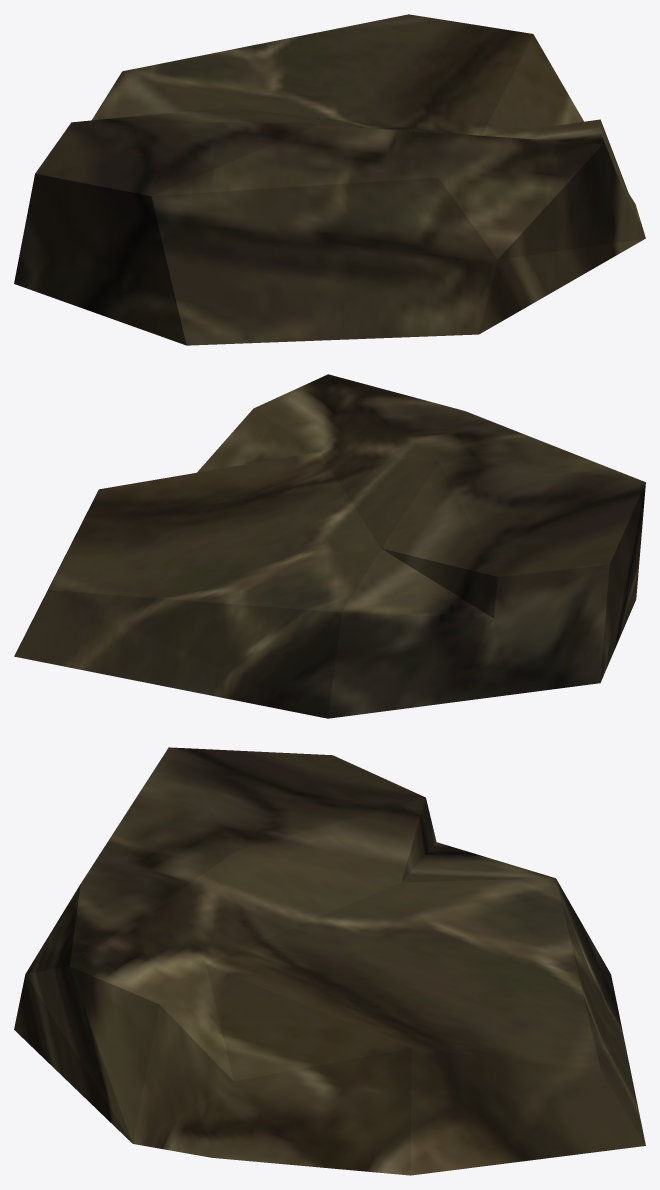
Rendered from D_shitou005.fbx.
3 renders of one model, top to bottom at view 1: azimuth 30°, elevation 25°; view 2: azimuth 150°, elevation 25°; view 3: azimuth 270°, elevation 25°, orthographic. The views are drawn at different scales.
Parts seen in each view (by area): view 1: D_shitou005; view 2: D_shitou005; view 3: D_shitou005.
Boxes of the visible parts, box(x1,y1,x2,y2) form: D_shitou005: box(14, 14, 645, 345); D_shitou005: box(14, 374, 645, 718); D_shitou005: box(14, 747, 645, 1175).
Size of the model in its own units: 156 by 37.47 by 140.
